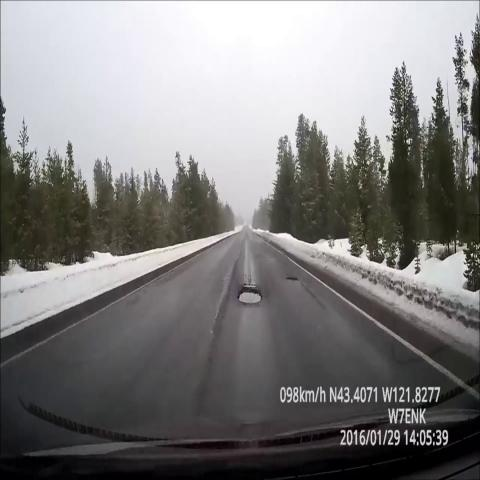pothole: (233, 271, 266, 321), (281, 260, 304, 289)
